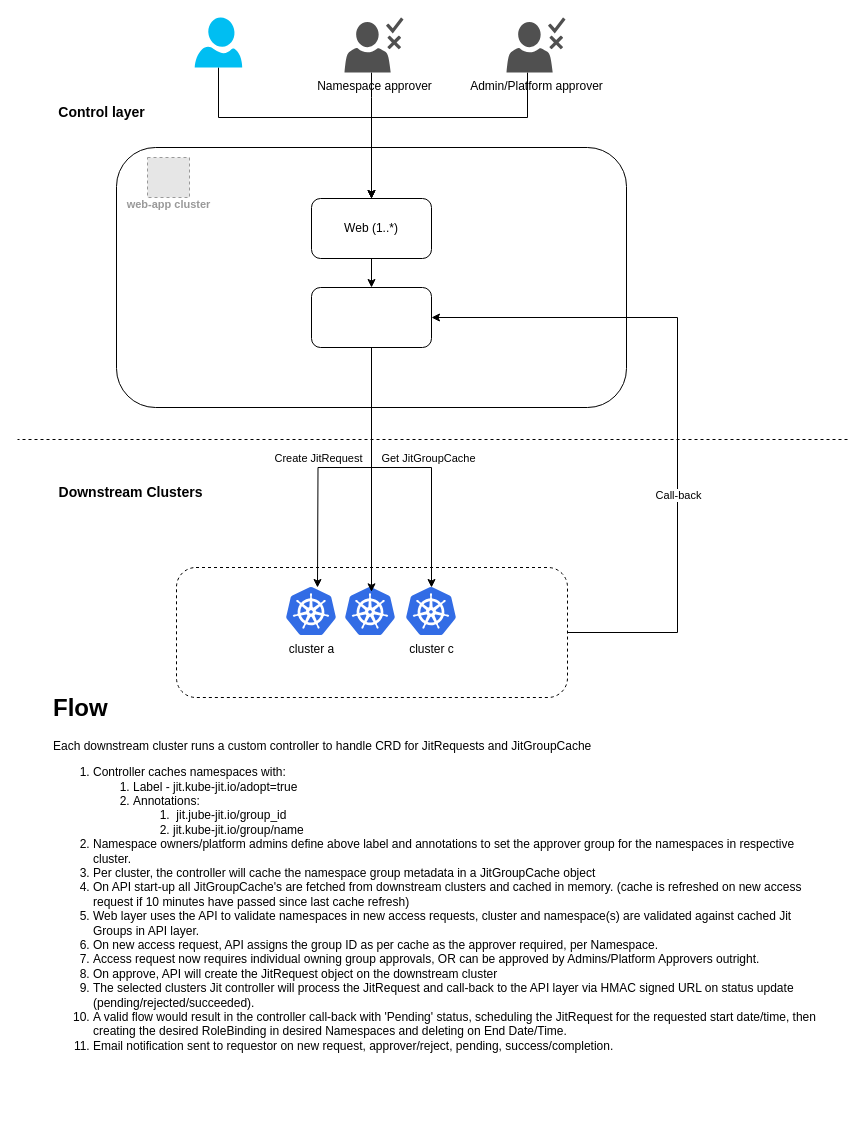
This 866x1137 diagram has some shape labels left out. Grey dashed boxes stand in for pictures. Each missing label, with the centre of its shape:
API (1..*): the point at 371,317
cluster b: the point at 370,611
Requestor: the point at 218,42
